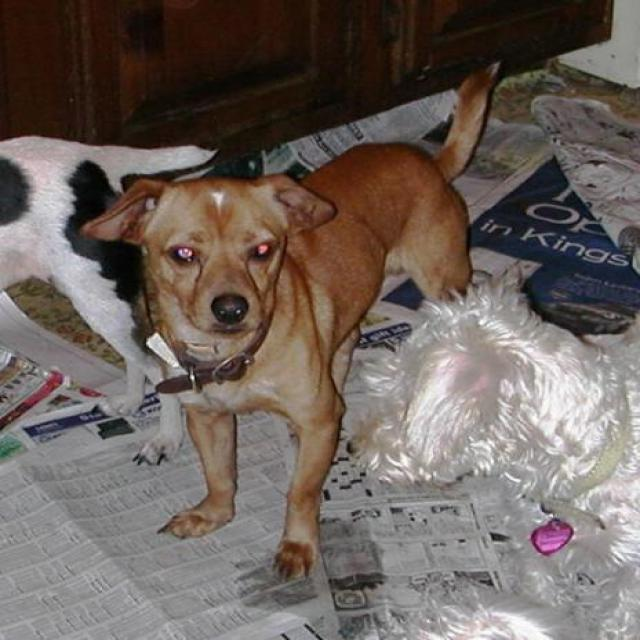Dogs: (80, 58, 505, 582), (0, 132, 221, 434)
